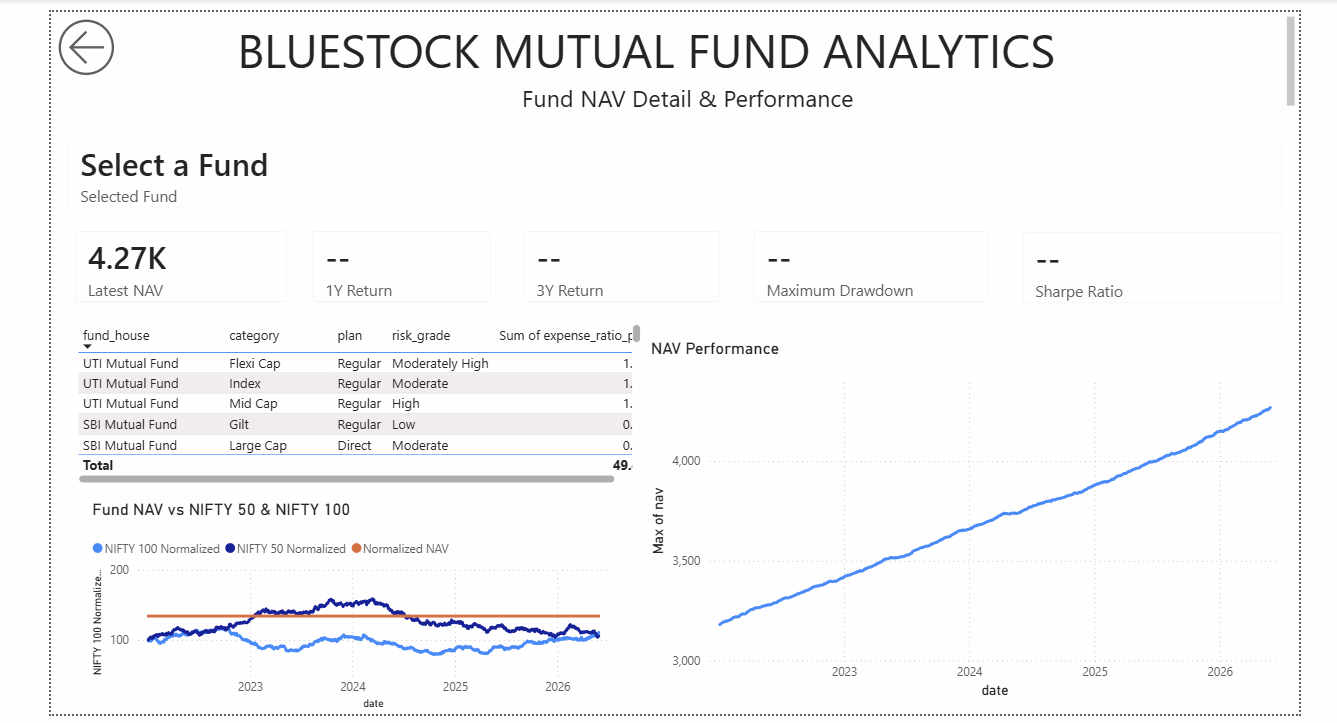

The page's visual inventory and layout, read from the dashboard file:
{"tool":"powerbi","page":{"name":"NAV Detail","canvas":[1280,720],"ordinal":4},"visuals":[{"type":"textbox","box":[185.7,0,1094.3,112.9],"z":0},{"type":"actionButton","box":[0,0,82.5,72.5],"z":1000},{"type":"cardVisual","fields":{"Data":["Nav.Selected Fund"]},"box":[0,112.9,1280,105.7],"z":2000},{"type":"cardVisual","title":"Latest NAV","fields":{"Data":["Nav.Latest NAV"]},"box":[7.1,207.1,251.4,107.1],"z":3000},{"type":"cardVisual","fields":{"Data":["Nav.1Y Return"]},"box":[251.4,207.1,217.1,107.1],"z":4000},{"type":"cardVisual","fields":{"Data":["Nav.3Y Return"]},"box":[468.6,207.1,235.7,107.1],"z":5000},{"type":"cardVisual","fields":{"Data":["Nav.Sharpe Ratio"]},"box":[980,208.6,300,107.1],"z":6000},{"type":"cardVisual","fields":{"Data":["Nav.Maximum Drawdown"]},"box":[704.3,207.1,275.7,107.1],"z":7000},{"type":"lineChart","title":"NAV Performance","fields":{"Category":["Nav.date"],"Y":["Max(Nav.nav)"]},"box":[610,334.3,658.6,374.3],"z":8000},{"type":"lineChart","title":"Fund NAV vs NIFTY 50 & NIFTY 100","fields":{"Y":["Benchmark.NIFTY 100 Normalized","Benchmark.NIFTY 50 Normalized","Benchmark.Normalized NAV"],"Category":["Benchmark.date"]},"box":[37.1,500,542.9,220],"z":9000},{"type":"tableEx","fields":{"Values":["Performance.fund_house","Performance.category","Performance.plan","Performance.risk_grade","Sum(Performance.expense_ratio_pct)"]},"box":[21.4,315.7,588.6,172.9],"z":10000}]}

Visuals, with their boxes on the page's 1280x720 design canvas (x1, y1, x2, y2). These are canvas units, not pixel positions in the 1337x723 screenshot, which may show the page scaled, cropped or inside an application window:
textbox: <bbox>186, 0, 1280, 113</bbox>
actionButton: <bbox>0, 0, 82, 72</bbox>
cardVisual - Nav.Selected Fund: <bbox>0, 113, 1280, 219</bbox>
"Latest NAV" cardVisual: <bbox>7, 207, 258, 314</bbox>
cardVisual - Nav.1Y Return: <bbox>251, 207, 468, 314</bbox>
cardVisual - Nav.3Y Return: <bbox>469, 207, 704, 314</bbox>
cardVisual - Nav.Sharpe Ratio: <bbox>980, 209, 1280, 316</bbox>
cardVisual - Nav.Maximum Drawdown: <bbox>704, 207, 980, 314</bbox>
"NAV Performance" lineChart: <bbox>610, 334, 1269, 709</bbox>
"Fund NAV vs NIFTY 50 & NIFTY 100" lineChart: <bbox>37, 500, 580, 720</bbox>
tableEx - Performance.fund_house x Performance.category: <bbox>21, 316, 610, 489</bbox>
